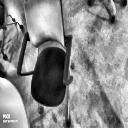chair_success: (17, 1, 74, 127)
